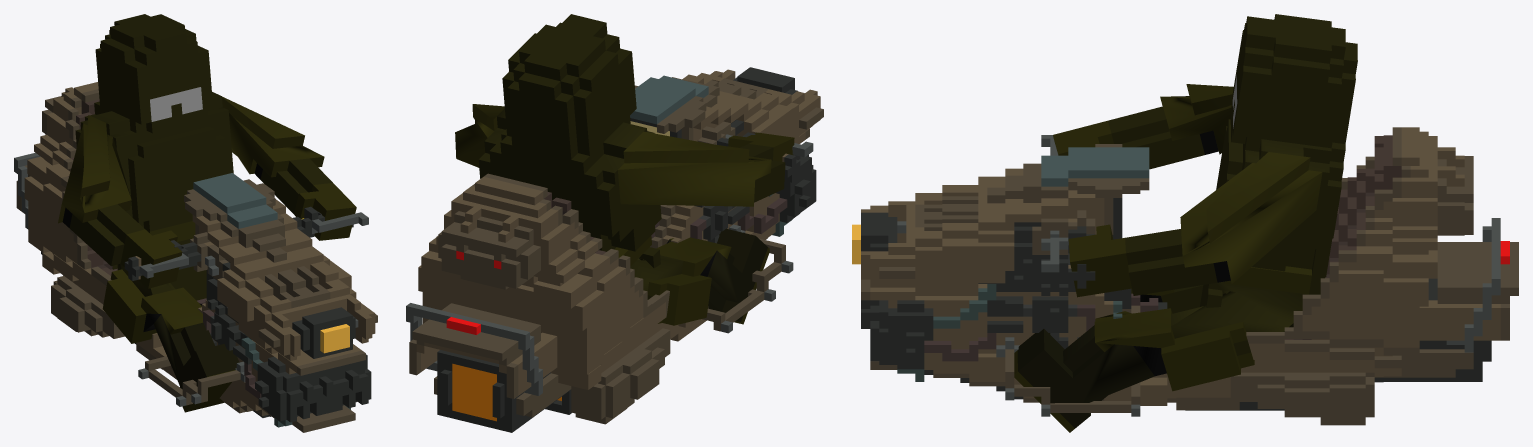
The model's file is OnScooter.obj.
3 renders of one model, left to right at view 1: azimuth 30°, elevation 25°; view 2: azimuth 150°, elevation 25°; view 3: azimuth 270°, elevation 25°, orthographic. The views are drawn at different scales.
Bounding box in the file's own units: 4.96 × 5.74 × 9.39.
2 materials, 2 textured.
